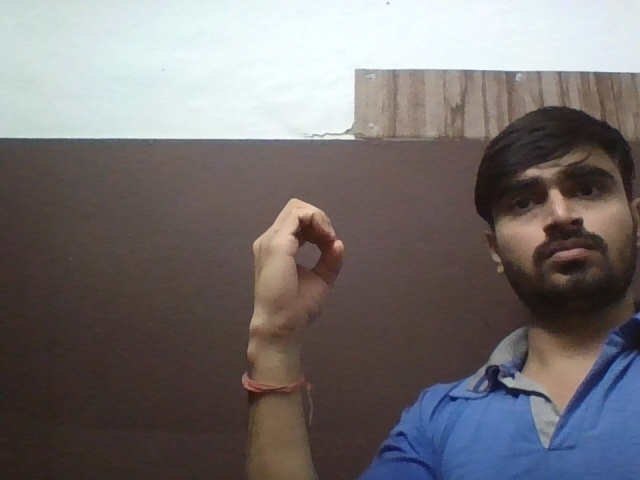O: (245, 191, 352, 339)
